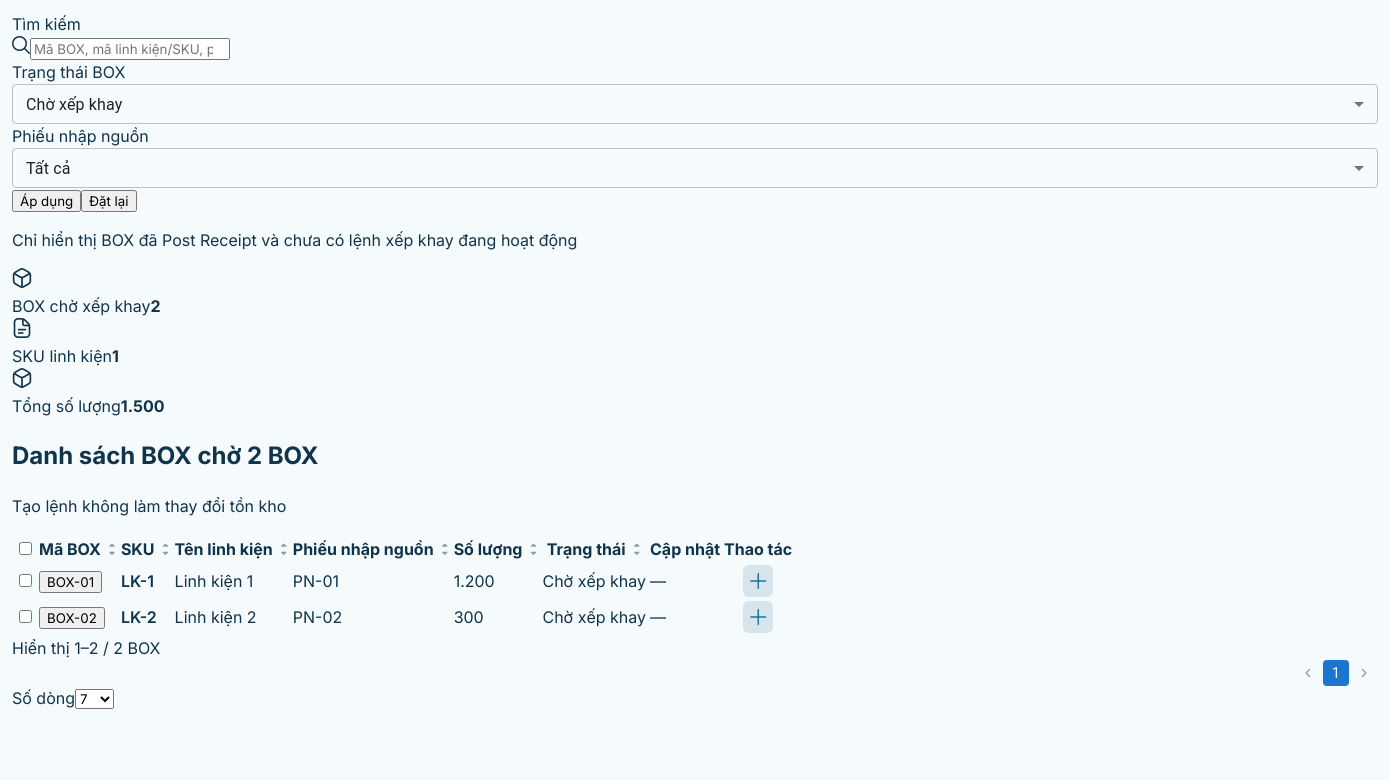
it: PTW-00 queue interactions › excludes active drafts from pending, applies receipt/status together and resets actual totals
The width and height of the screenshot is (1390, 780).
Expected: the text "BOX chờ xếp khay" shows "2", [151,296,161,316]
Expected: the text "SKU linh kiện" shows "1", [112,346,119,366]
Click the dropdown named "Phiếu nhập nguồn".
click(48, 168)  # box [26,158,71,178]
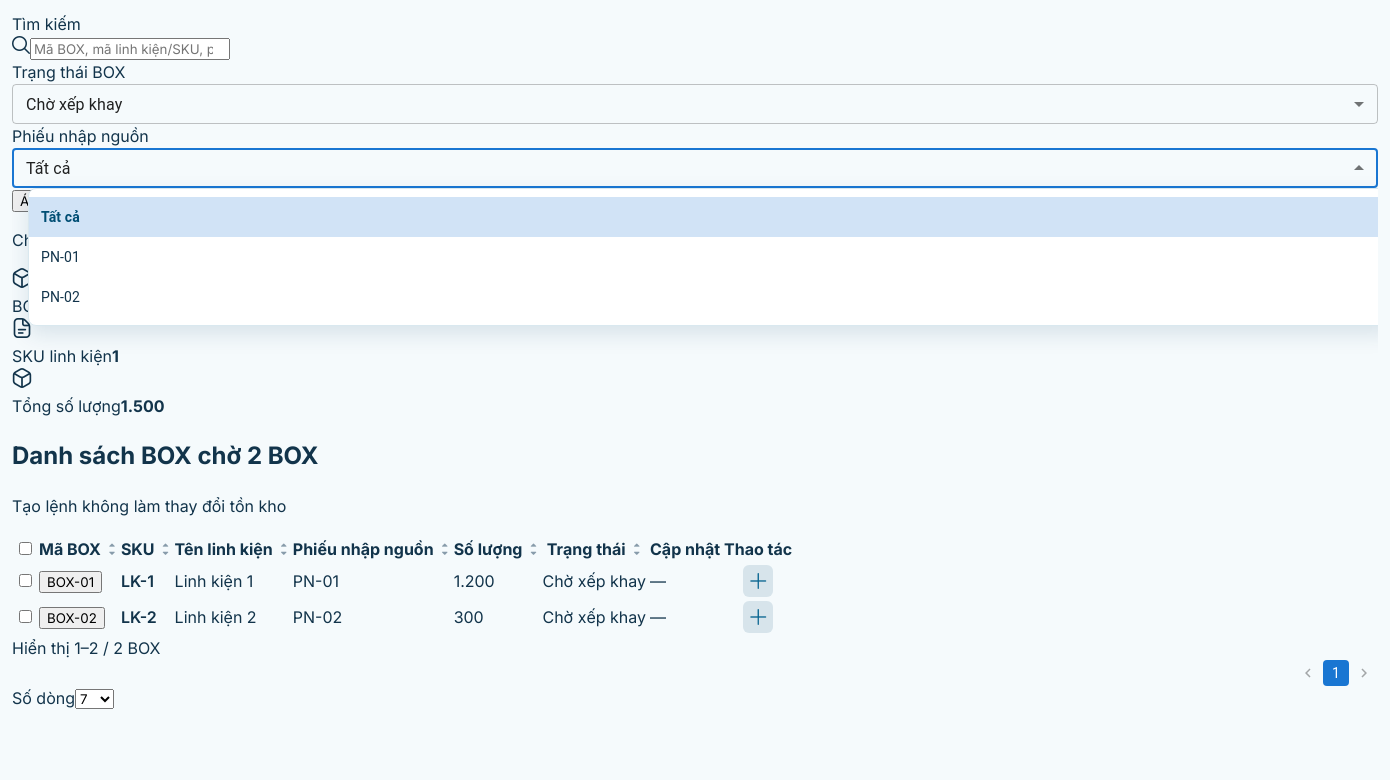
Click the option "PN-02".
click(61, 297)  # box [41,289,80,305]
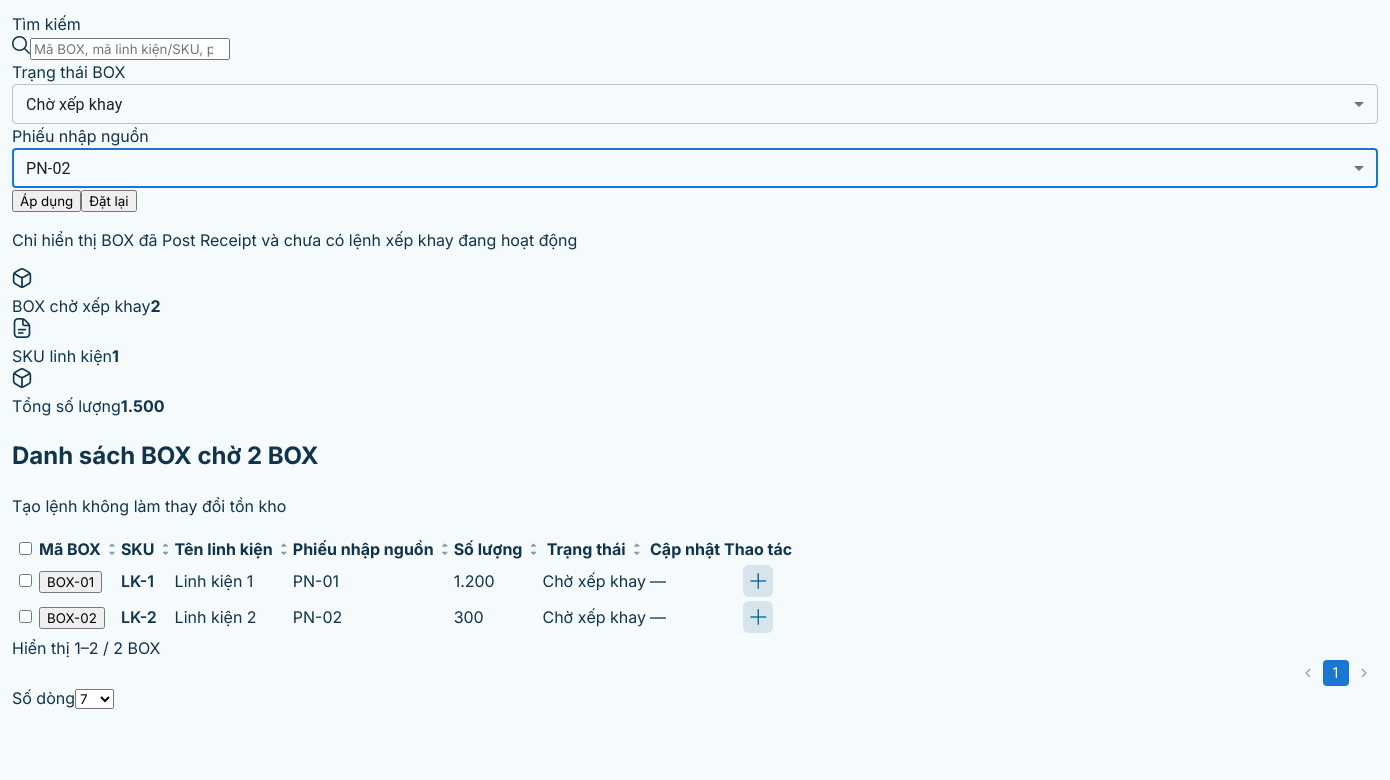
Click the dropdown named "Trạng thái BOX".
click(74, 104)  # box [26,94,122,114]
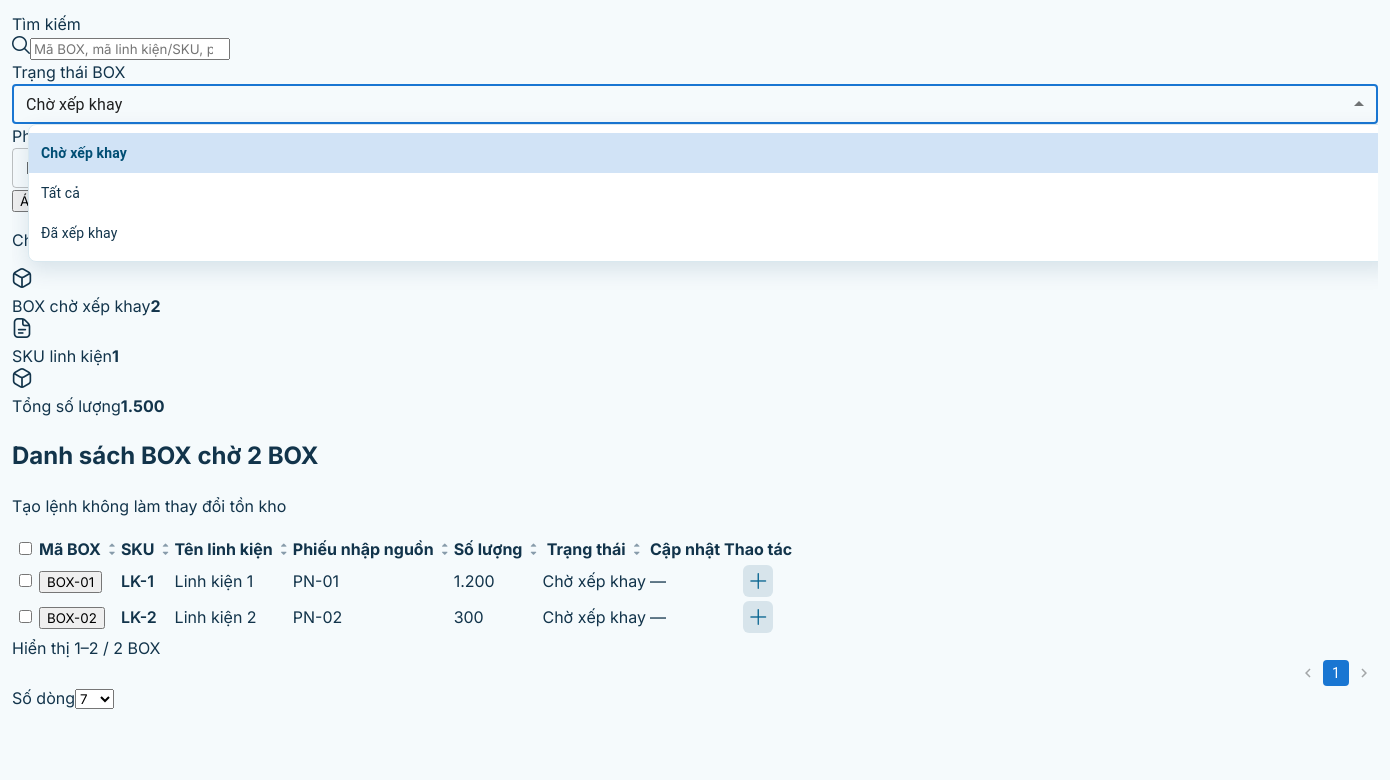
Click the option "Tất cả".
click(60, 193)  # box [41,185,80,201]
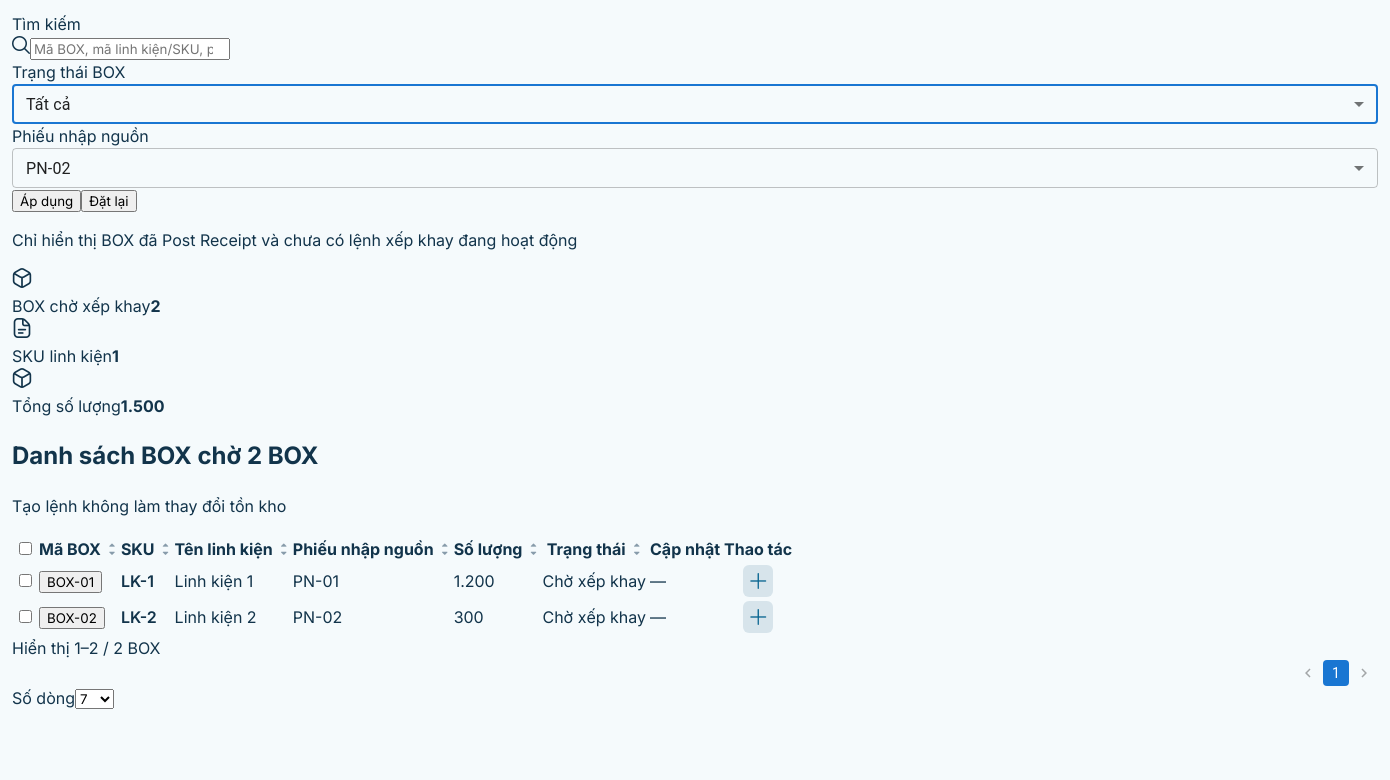
Click the button "Áp dụng".
click(47, 201)  # box [12,190,81,212]
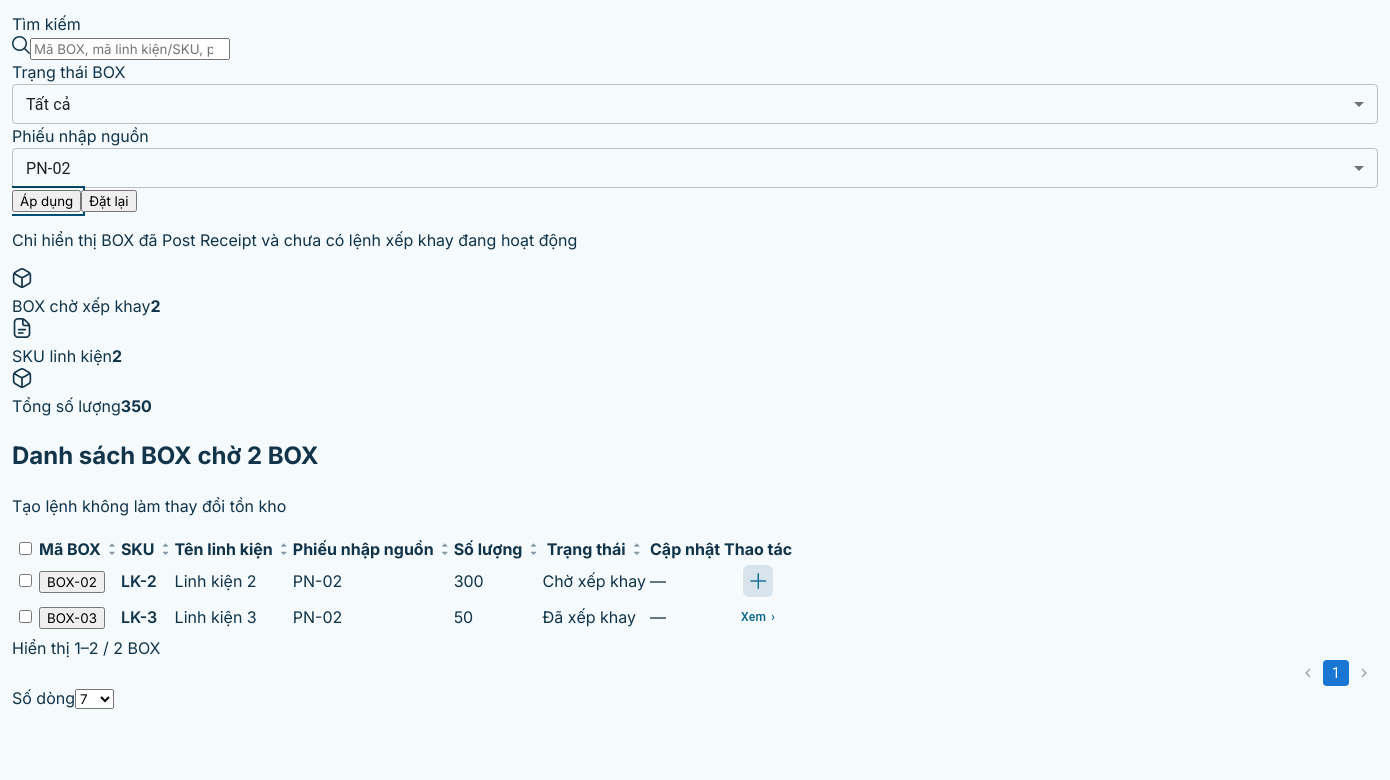
Expected: the text "SKU linh kiện" shows "2", [112,346,122,366]
Expected: the text "Tổng số lượng" shows "350", [121,396,152,416]
Click the button "Đặt lại".
click(109, 201)  # box [81,190,136,212]
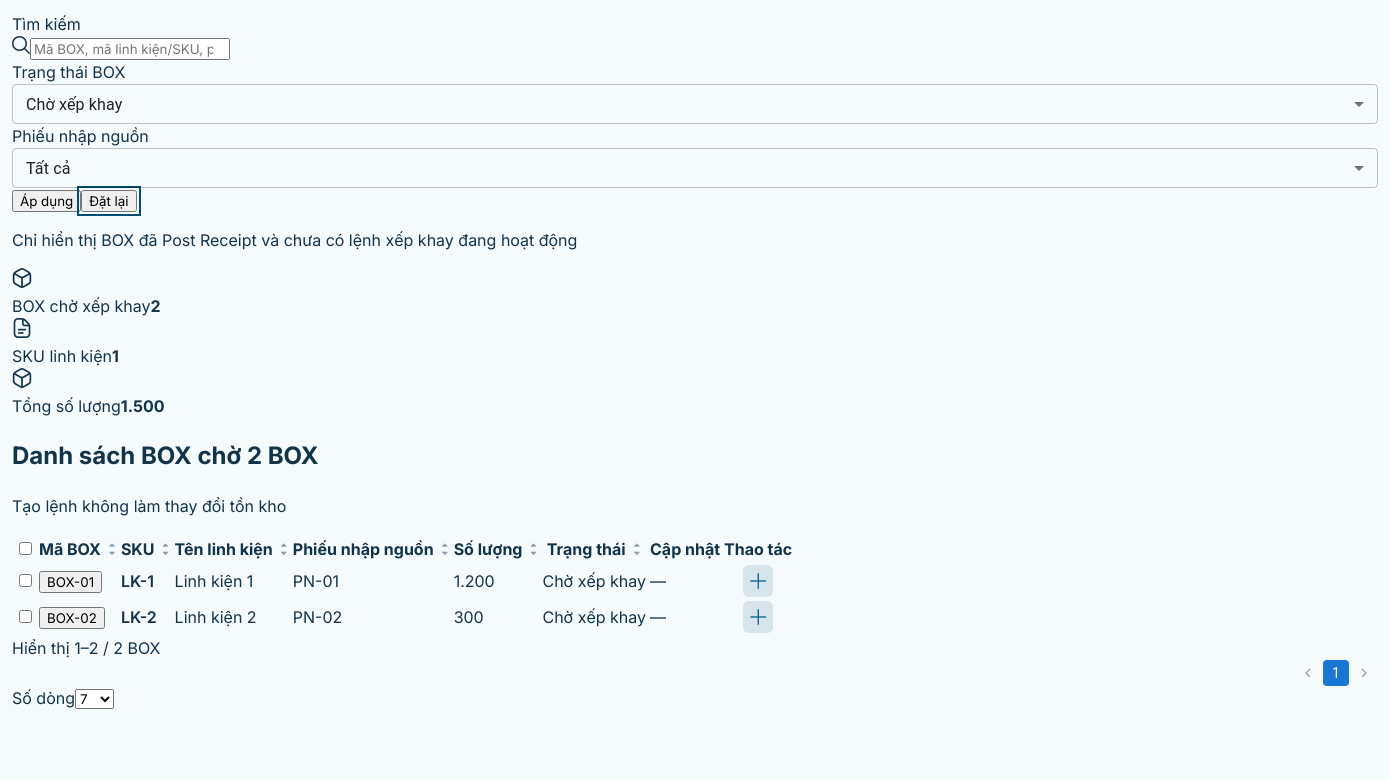
Expected: the text "Tổng số lượng" shows "1.500", [121,396,164,416]
